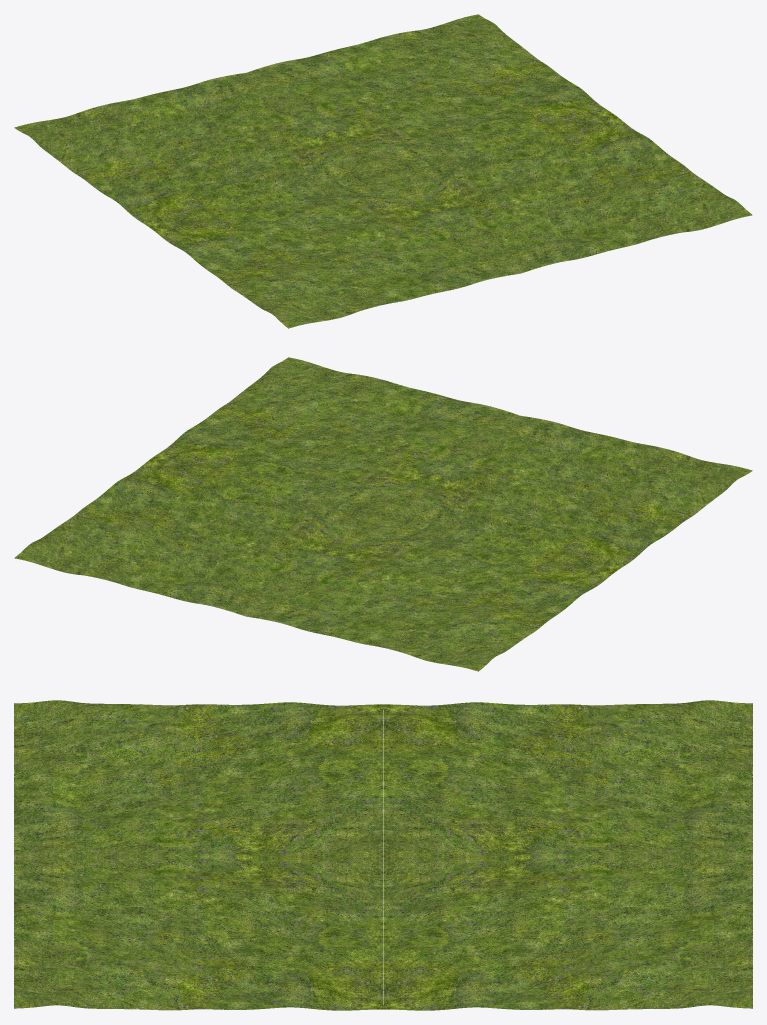
File: grass.obj
3 renders of one model, top to bottom at view 1: azimuth 30°, elevation 25°; view 2: azimuth 150°, elevation 25°; view 3: azimuth 270°, elevation 25°, orthographic. The views are drawn at different scales.
Visible parts, largest first — view 1: 1, 2, 3, 4; view 2: 3, 4, 1, 2; view 3: 4, 2, 3, 1.
Part boxes in pixels (box(x1,y1,x2,y2)): 1: box(246, 14, 615, 171); 2: box(14, 73, 382, 228); 3: box(384, 115, 752, 273); 4: box(151, 171, 520, 328); 3: box(151, 357, 520, 514); 4: box(384, 416, 752, 571); 1: box(14, 458, 382, 616); 2: box(246, 514, 615, 671); 4: box(14, 700, 383, 858); 2: box(383, 700, 752, 858); 3: box(14, 854, 383, 1010); 1: box(383, 854, 752, 1010).
Bounding box in the file's own units: 5.54 × 0.0727 × 5.67.
Materials: 1 (1 with a texture image).
